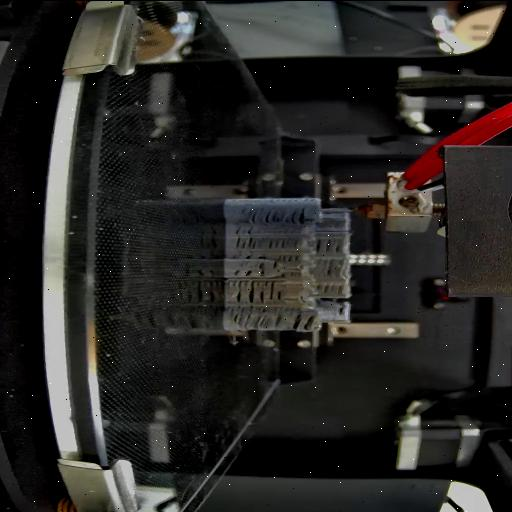cracks: (230, 305, 282, 329), (248, 204, 308, 223), (229, 280, 263, 304), (233, 222, 258, 250), (293, 308, 316, 330), (314, 236, 342, 254), (266, 234, 300, 248), (315, 280, 347, 294), (318, 258, 338, 278), (266, 278, 284, 298), (278, 253, 302, 261), (258, 253, 266, 275), (280, 270, 302, 278), (232, 268, 252, 276), (232, 252, 254, 258), (271, 260, 279, 268)
